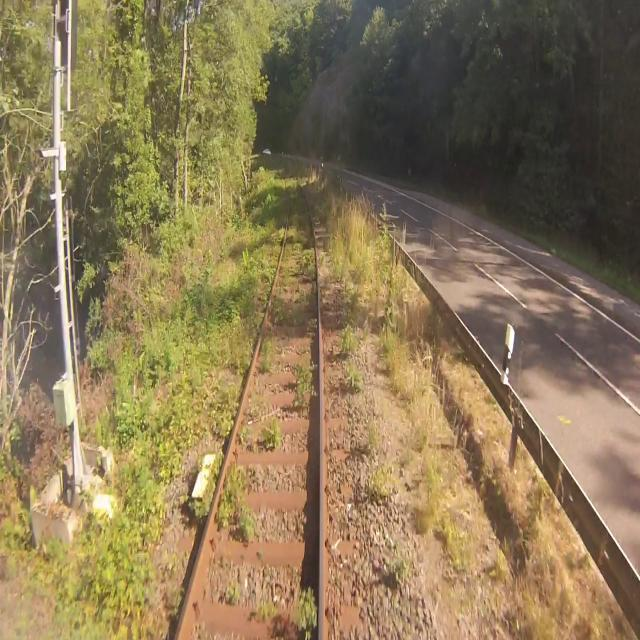Plant: (232, 168, 314, 377), (268, 197, 316, 327), (144, 548, 195, 639), (303, 184, 344, 297), (214, 462, 254, 543), (236, 394, 279, 456), (187, 447, 224, 518), (213, 383, 240, 436), (294, 583, 316, 639), (335, 306, 356, 355), (294, 364, 316, 404), (251, 600, 279, 623), (345, 359, 361, 395), (260, 339, 272, 370), (227, 578, 240, 606)
